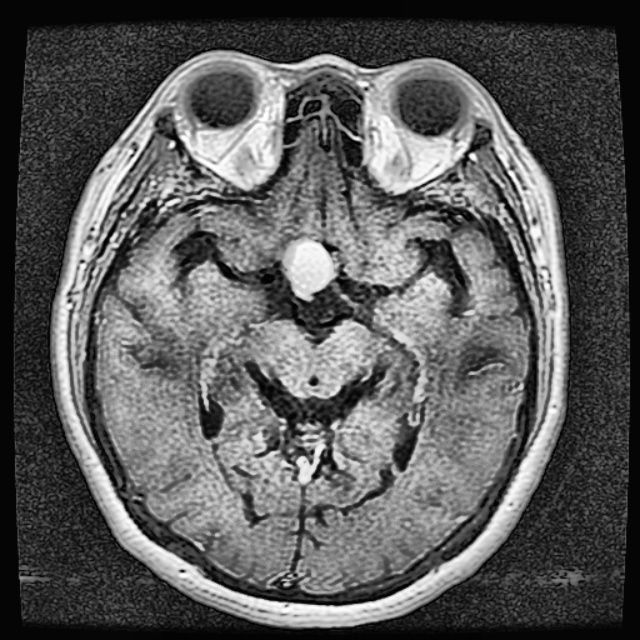Pituitary: (284, 239, 329, 295)
